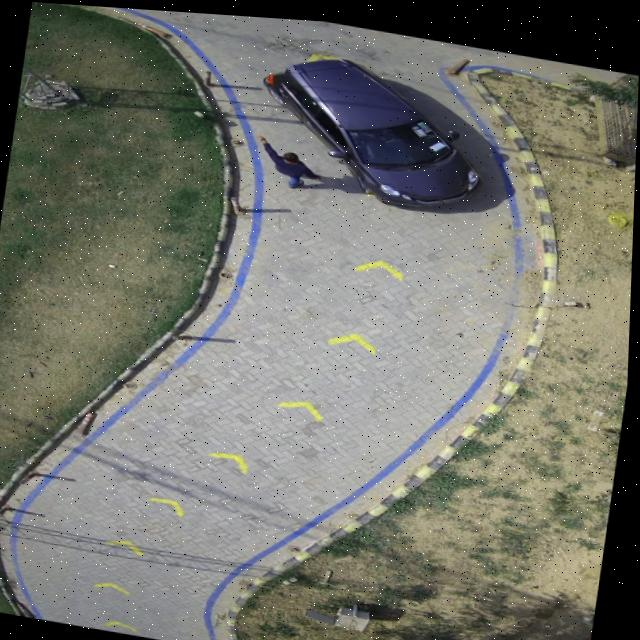car: (263, 53, 481, 202)
